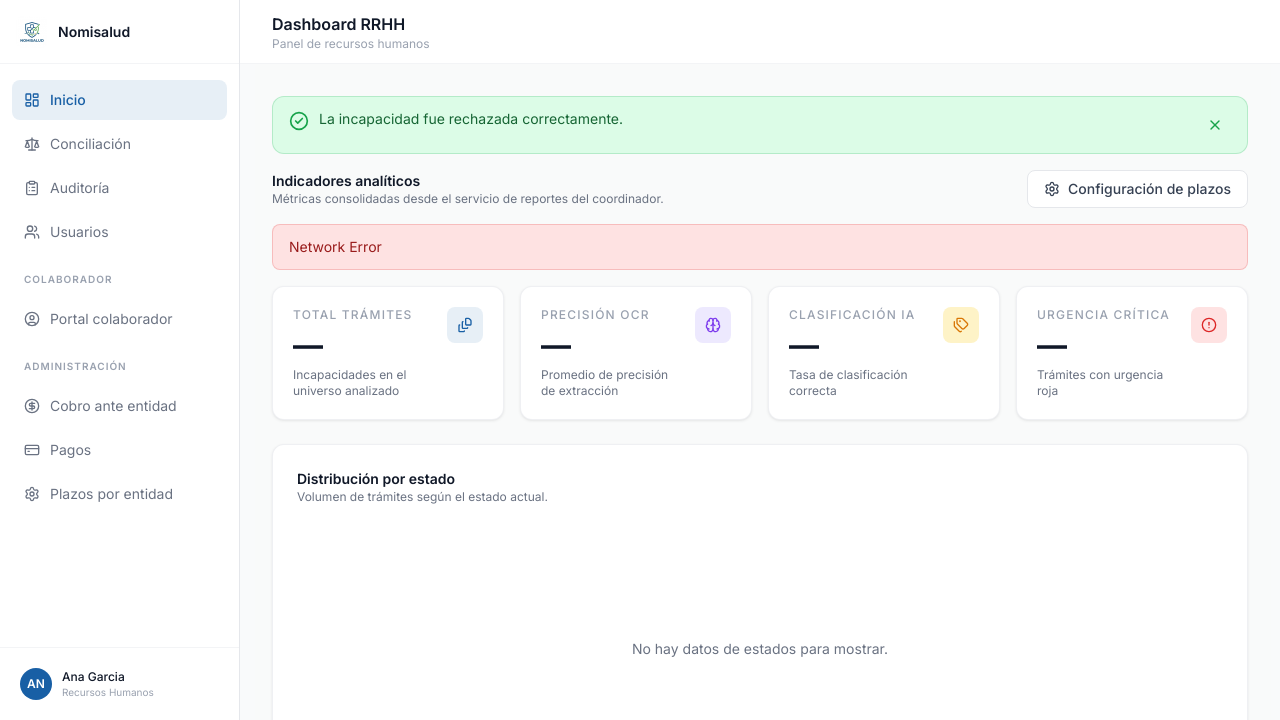
DashboardPage › permite cerrar el banner de éxito
This screenshot has width=1280, height=720.
Expected: the message "La incapacidad fue rechazada correctamente." is shown, [272,96,1248,154]
Click the button named "cerrar aviso".
click(1215, 125)  # box [1199,109,1231,141]
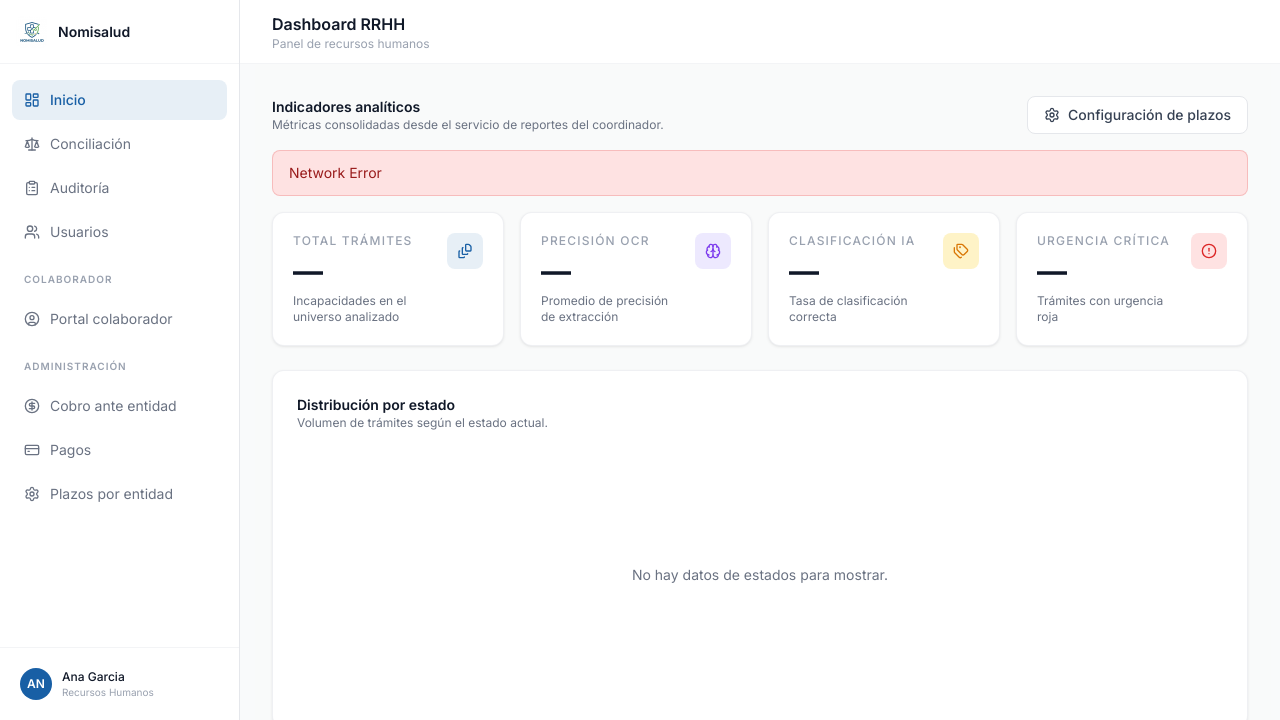
Result: the message "La incapacidad fue rechazada correctamente." is gone
